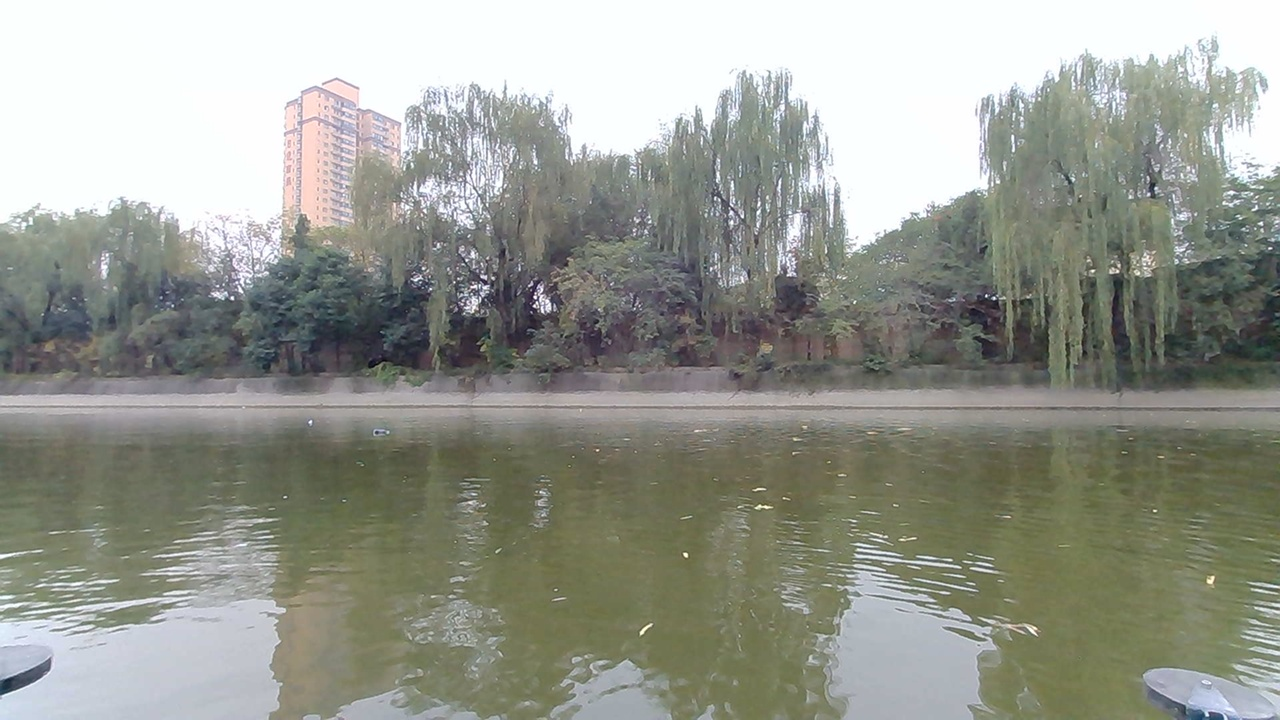bottle: (363, 418, 400, 442)
